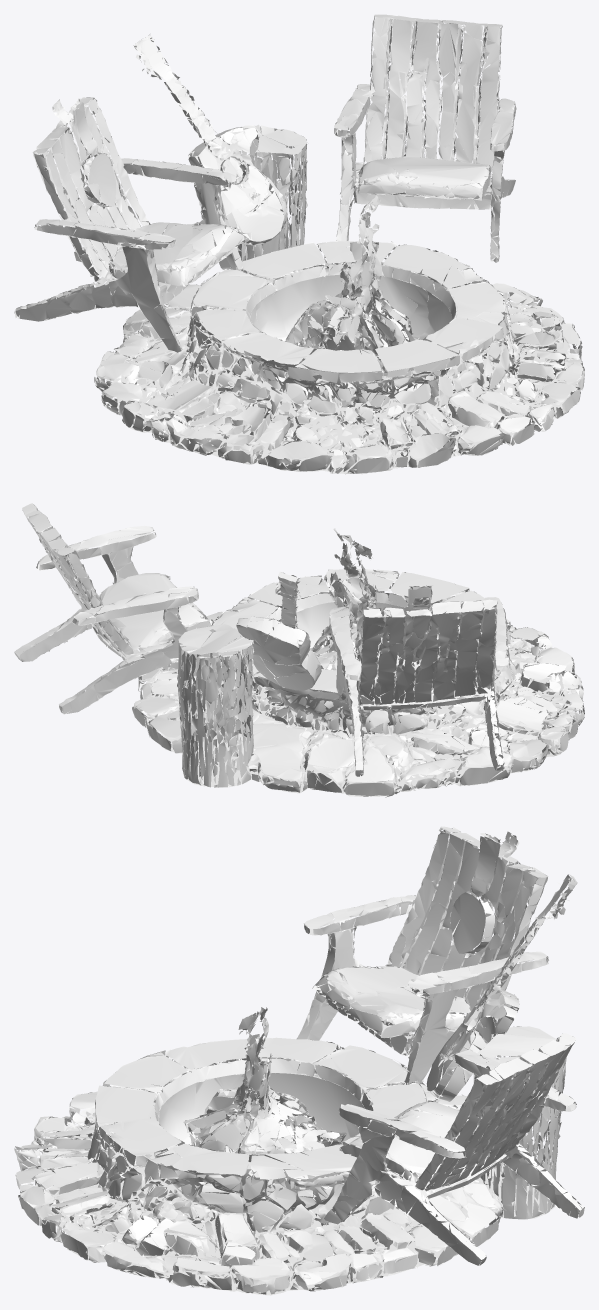
The model's file is beach-campfire.glb.
3 views of the same model, one above another, from view 1: azimuth 30°, elevation 25°; view 2: azimuth 150°, elevation 25°; view 3: azimuth 270°, elevation 25° (orthographic). The views are drawn at different scales.
Parts seen in each view (by area): view 1: model; view 2: model; view 3: model.
Part boxes in pixels (x1=…): model: x1=14, y1=14, x2=584, y2=474; model: x1=14, y1=503, x2=584, y2=797; model: x1=14, y1=826, x2=584, y2=1295.
Bounding box in the file's own units: 1.9 × 0.917 × 1.7.
1 material, 1 textured.
